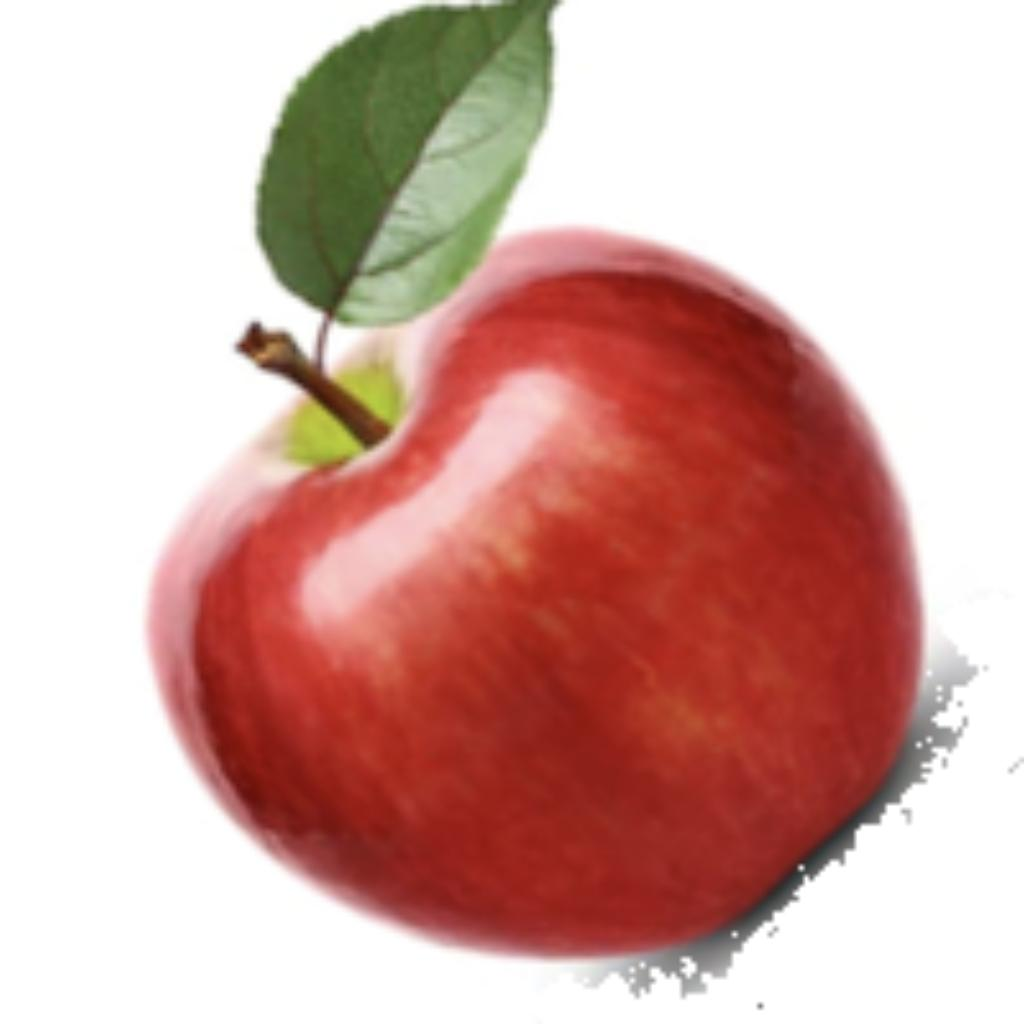apple: (138, 0, 988, 998)
